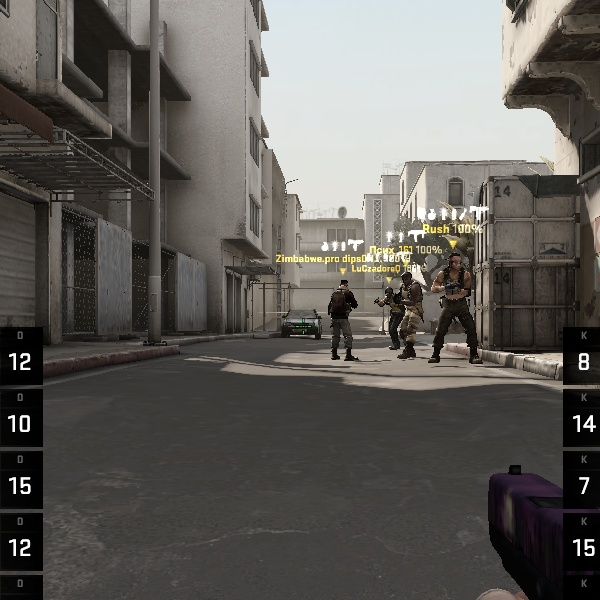t_body: (425, 250, 486, 363), (318, 277, 367, 361), (393, 271, 423, 360), (374, 287, 403, 352)
t_head: (446, 252, 464, 272), (400, 272, 413, 286), (338, 277, 350, 290), (383, 287, 394, 299)
